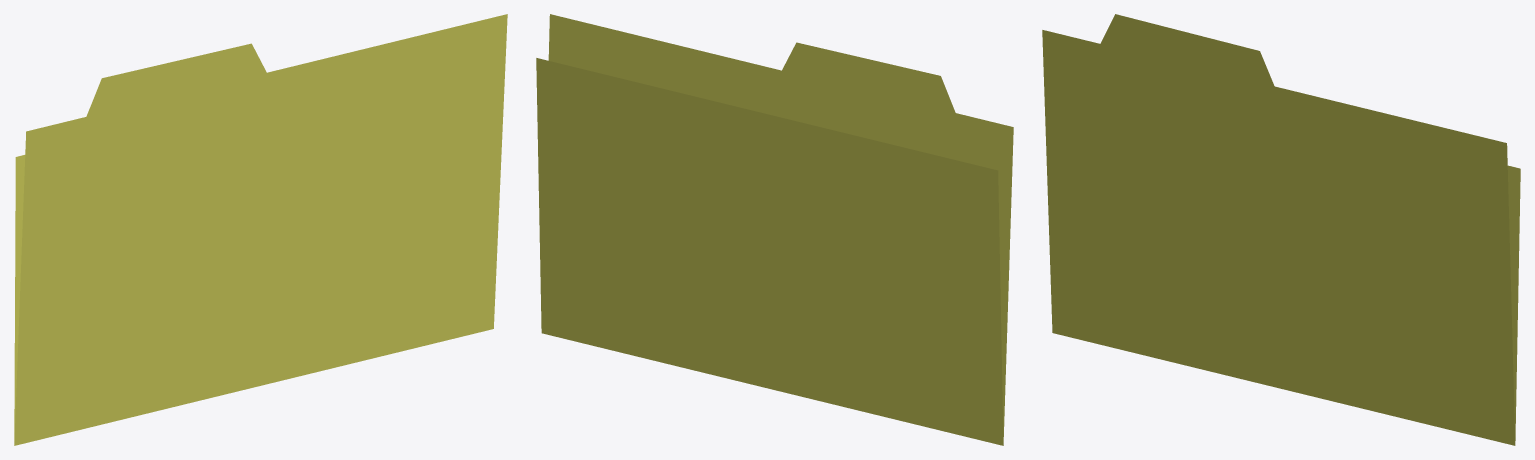
File: carpeta_cerrada.glb
3 renders of one model, left to right at view 1: azimuth 30°, elevation 25°; view 2: azimuth 150°, elevation 25°; view 3: azimuth 330°, elevation 25°, orthographic. The views are drawn at different scales.
Visible parts, largest first — view 1: Cube.002; view 2: Cube.002; view 3: Cube.002.
Boxes of the visible parts, box(x1,y1,x2,y2) form: Cube.002: box(14, 14, 507, 445); Cube.002: box(536, 14, 1013, 445); Cube.002: box(1042, 14, 1520, 445).
Size of the model in its own units: 0.9496 by 0.6712 by 0.0452.
